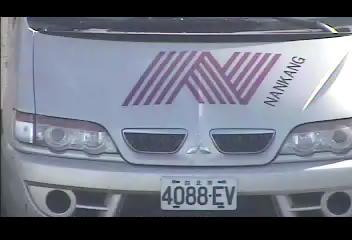plate: (158, 175, 239, 211)
